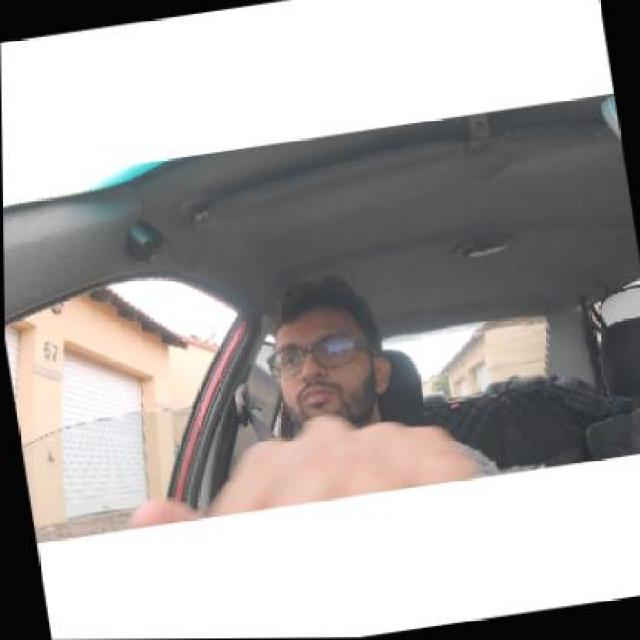person: (267, 270, 408, 427)
